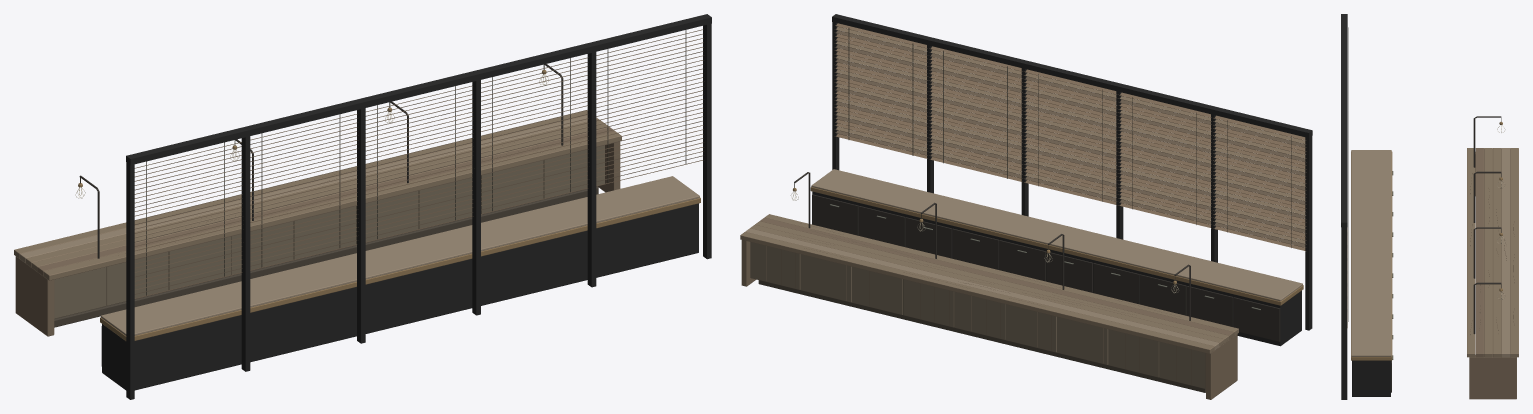
File: counter.glb
3 renders of one model, left to right at view 1: azimuth 30°, elevation 25°; view 2: azimuth 150°, elevation 25°; view 3: azimuth 270°, elevation 25°, orthographic. The views are drawn at different scales.
Parts seen in each view (by area): view 1: MoboCounter; view 2: MoboCounter; view 3: MoboCounter.
Part boxes in pixels (box(x1,y1,x2,y2)): MoboCounter: box(14, 14, 711, 399); MoboCounter: box(740, 14, 1312, 399); MoboCounter: box(1341, 14, 1518, 399).
Bounding box in the file's own units: 10.28 × 4.1 × 3.7.
